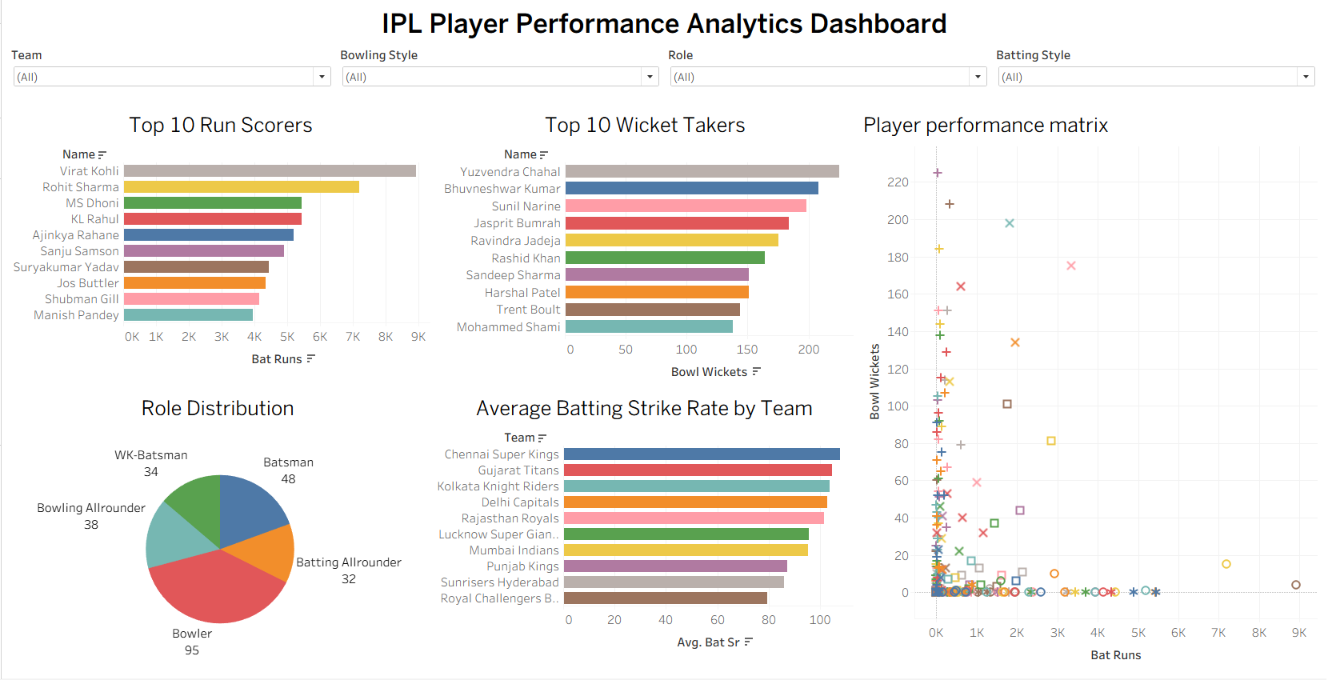

The dashboard page shown, as its layout file describes it:
{"tool":"tableau","page":{"name":"IPL Player Performance Analytics Dashboard","canvas":[1000,1000],"units":"permille","ordinal":0},"visuals":[{"type":"text","box":[4.8,9.4,990.3,57.6]},{"type":"filter","title":"Top 10 Run Scorers","param":"[federated.18l3uqk0k3euyl15cfa1j0311v8p].[none:team:nk]","box":[4.8,67,248,91.7]},{"type":"filter","title":"Top Wicket Takers","param":"[federated.18l3uqk0k3euyl15cfa1j0311v8p].[none:Bowling Style:nk]","box":[252.9,67,247.4,91.7]},{"type":"filter","title":"Average Batting Strike Rate by Team","param":"[federated.18l3uqk0k3euyl15cfa1j0311v8p].[none:role:nk]","box":[500.3,67,247.4,91.7]},{"type":"filter","title":"Top 10 Run Scorers","param":"[federated.18l3uqk0k3euyl15cfa1j0311v8p].[none:Batting Style:nk]","box":[747.7,67,247.4,91.7]},{"type":"worksheet","title":"Top 10 Run Scorers","mark":"Automatic","rows":["name"],"cols":["bat_runs"],"box":[4.8,158.6,321.1,416]},{"type":"worksheet","title":"Top Wicket Takers","mark":"Automatic","rows":["name"],"cols":["bowl_wickets"],"box":[325.9,158.6,319.2,416]},{"type":"worksheet","title":"Player performance matrix","mark":"Automatic","rows":["bowl_wickets"],"cols":["bat_runs"],"box":[645.1,158.6,350,832]},{"type":"worksheet","title":"Role Distribution ","mark":"Pie","box":[4.8,574.6,320.2,416]},{"type":"worksheet","title":"Average Batting Strike Rate by Team","mark":"Automatic","rows":["team"],"cols":["bat_sr"],"box":[325,574.6,320.2,416]}]}

Visuals, with their boxes on the dashboard's canvas, which has no fixed pixel size, in thousandths of its width and height (x1, y1, x2, y2). These are canvas units, not pixel positions in the 1327x680 screenshot, which may show the page scaled, cropped or inside an application window:
text: [5, 9, 995, 67]
"Top 10 Run Scorers" filter: [5, 67, 253, 159]
"Top Wicket Takers" filter: [253, 67, 500, 159]
"Average Batting Strike Rate by Team" filter: [500, 67, 748, 159]
"Top 10 Run Scorers" filter: [748, 67, 995, 159]
"Top 10 Run Scorers" worksheet: [5, 159, 326, 575]
"Top Wicket Takers" worksheet: [326, 159, 645, 575]
"Player performance matrix" worksheet: [645, 159, 995, 991]
"Role Distribution " worksheet (Pie marks): [5, 575, 325, 991]
"Average Batting Strike Rate by Team" worksheet: [325, 575, 645, 991]
